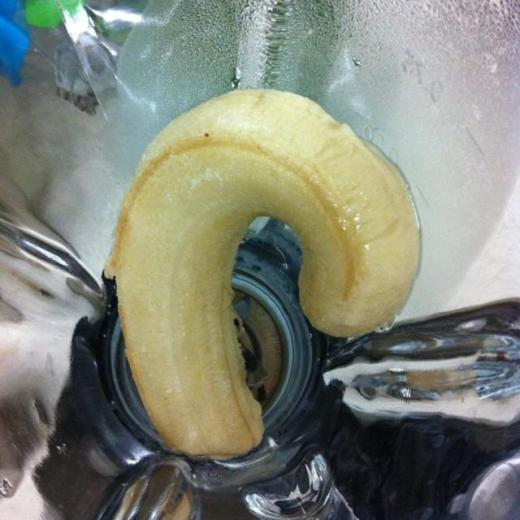Banana: (132, 100, 426, 388)
